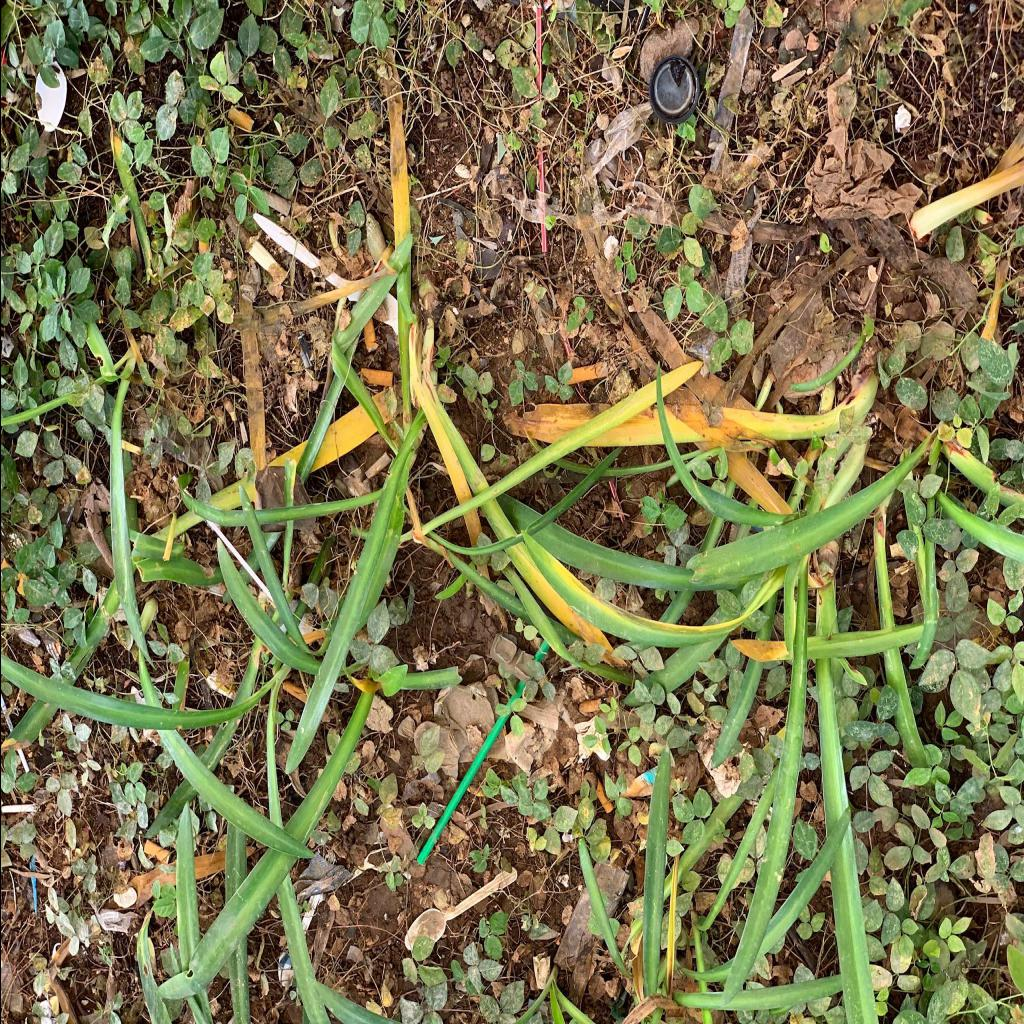Cigarette: (363, 450, 391, 478), (227, 106, 253, 136), (596, 776, 614, 814), (568, 366, 604, 384), (143, 841, 169, 865), (360, 370, 392, 388), (364, 318, 378, 350), (579, 698, 599, 714)
Other plastic: (278, 852, 350, 986), (521, 693, 563, 729), (625, 764, 659, 798)
Plastic bottle cap: (647, 56, 699, 124)
Plastic film: (552, 860, 628, 970), (708, 8, 752, 150), (593, 102, 649, 174), (688, 326, 716, 376), (403, 773, 439, 799)
Plastic straw: (416, 638, 550, 866), (559, 334, 626, 524), (533, 8, 548, 254), (1, 696, 29, 774), (2, 804, 32, 812)
Unlabeled litter: (725, 238, 751, 318), (35, 64, 63, 130)
